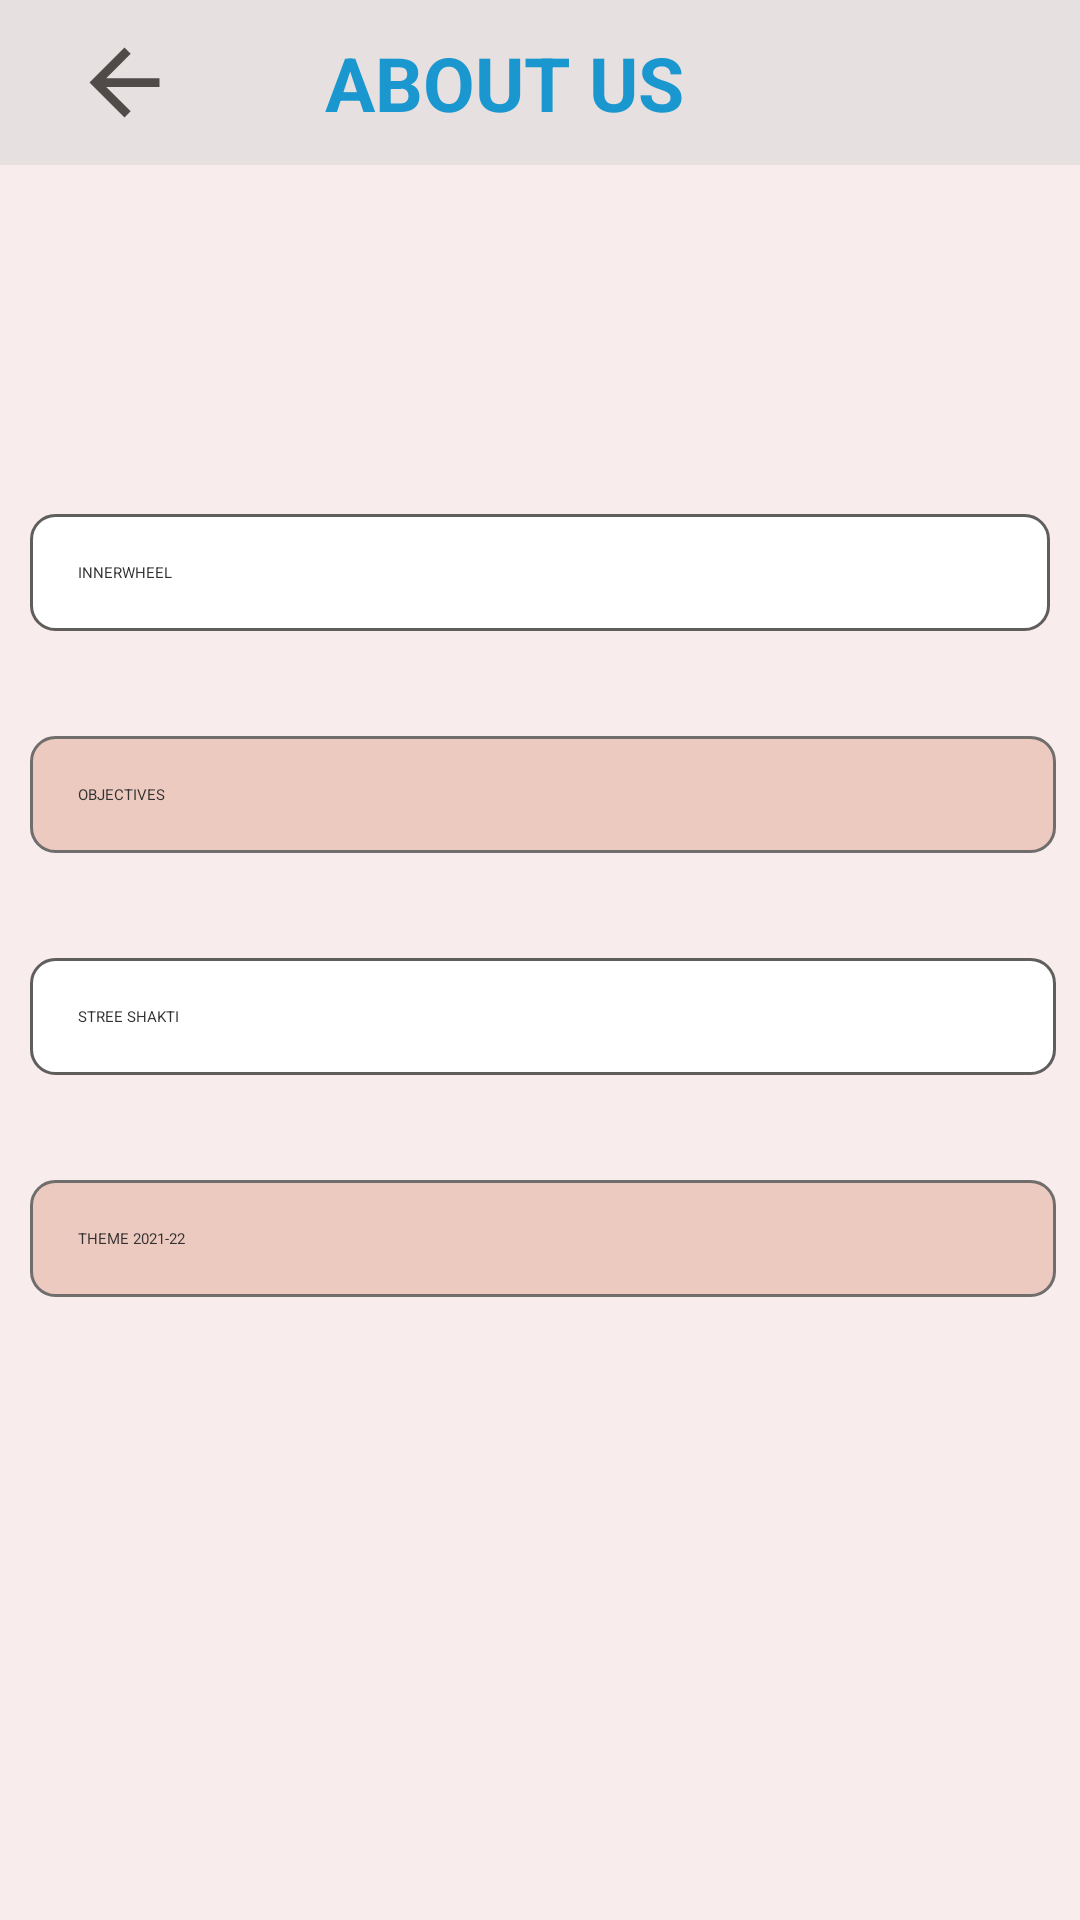

Screen size 1080w x 1920h. Icon name, then its box in pixels as (x1, y1, x2, y2):
arrow back: (89, 47, 160, 118)
